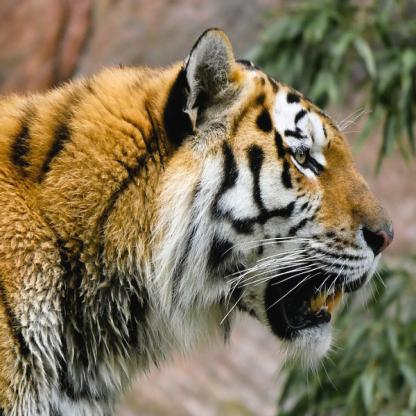cat: (0, 25, 394, 416)
